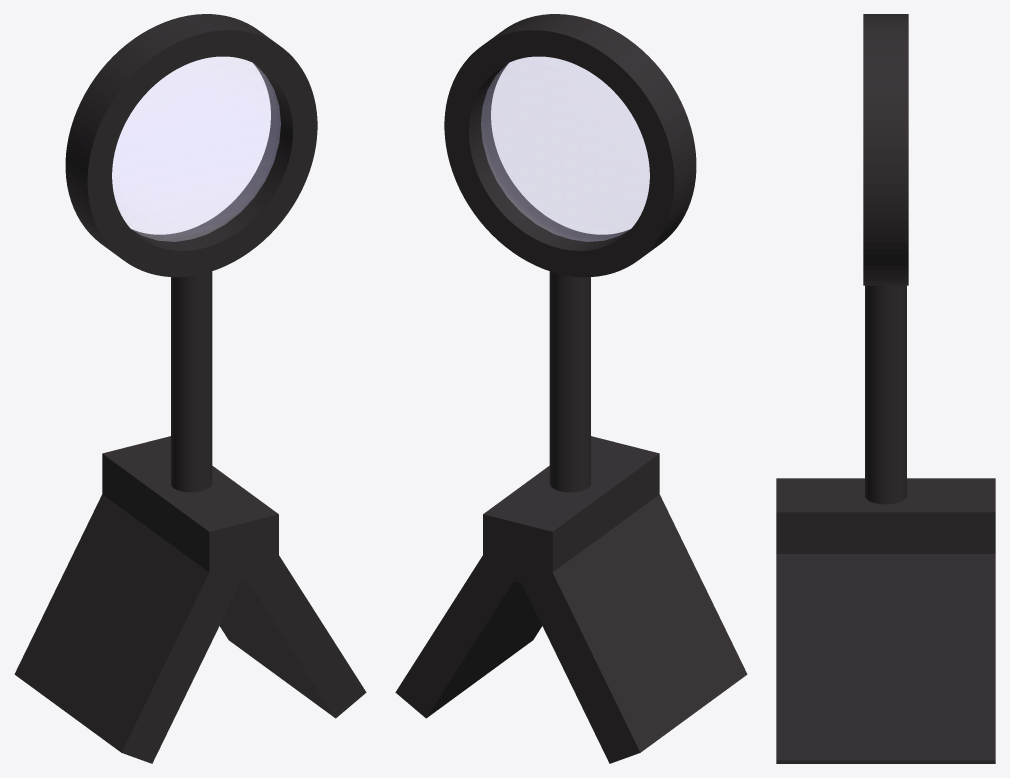
File: lentille.glb
The picture shows the model from 3 angles, left to right: view 1: azimuth 30°, elevation 25°; view 2: azimuth 150°, elevation 25°; view 3: azimuth 270°, elevation 25°; orthographic projection. The views are drawn at different scales.
Parts seen in each view (by area): view 1: noix-lentille, Cylinder, Sphere, support-lentille; view 2: noix-lentille, Cylinder, Sphere, support-lentille; view 3: noix-lentille, Cylinder, support-lentille.
Boxes of the visible parts, bbox=[...] form: noix-lentille: bbox=[14, 436, 366, 763]; Cylinder: bbox=[65, 14, 317, 277]; Sphere: bbox=[112, 57, 280, 241]; support-lentille: bbox=[171, 271, 212, 492]; noix-lentille: bbox=[395, 436, 747, 763]; Cylinder: bbox=[444, 14, 696, 277]; Sphere: bbox=[481, 57, 649, 241]; support-lentille: bbox=[549, 271, 590, 492]; noix-lentille: bbox=[776, 478, 995, 763]; Cylinder: bbox=[863, 14, 908, 285]; support-lentille: bbox=[865, 285, 906, 504].
Bounding box in the file's own units: 0.0547 × 0.1445 × 0.0414.
